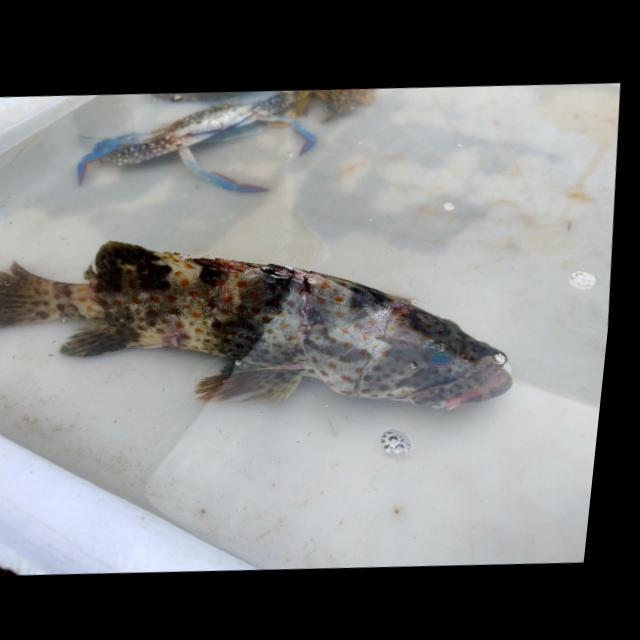Groupers: (0, 214, 528, 437)
